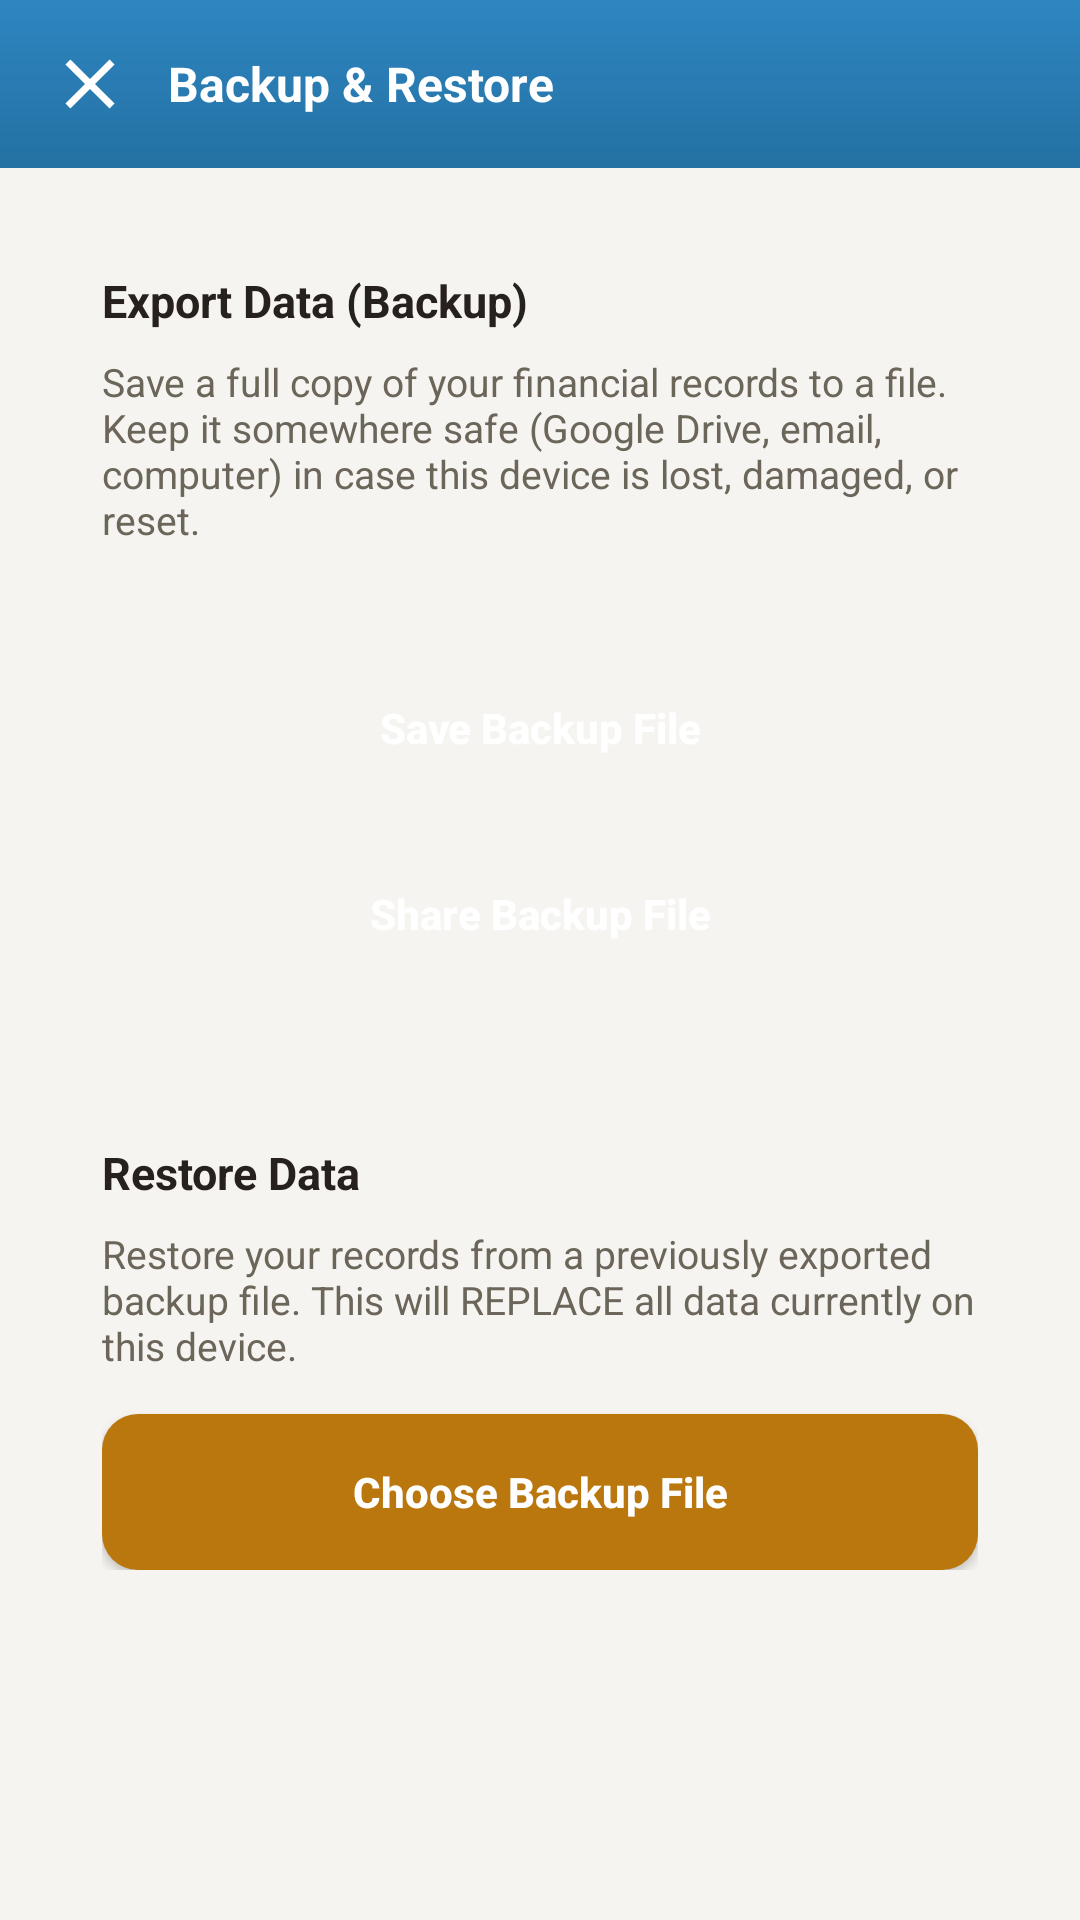

Screen size 1080 x 1920. Icon name, then its center in pixels as (x,y):
Close: (90,84)
